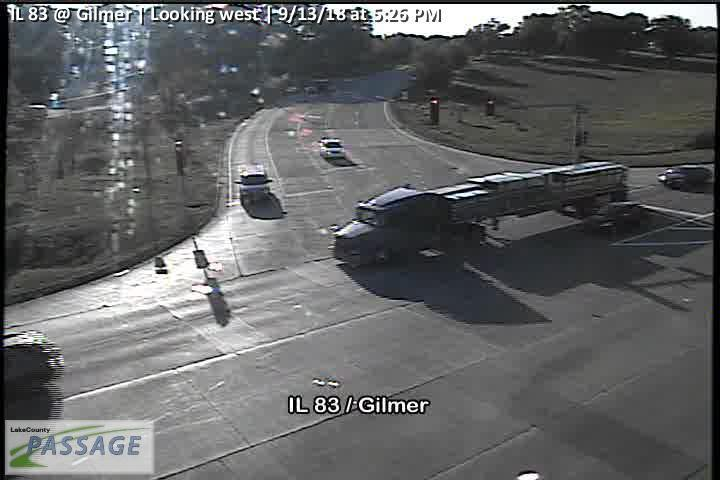SUV: (233, 165, 274, 205), (318, 136, 345, 158)
Sedan: (657, 164, 713, 190)
Truck: (330, 158, 628, 272)
